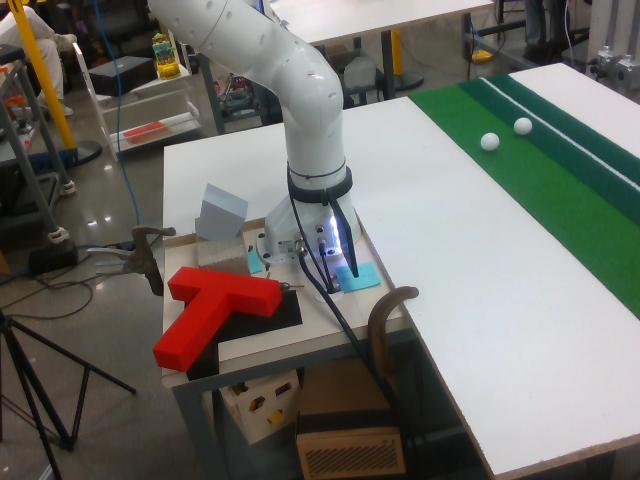golf_balls: (481, 132, 499, 151), (514, 117, 532, 135)
